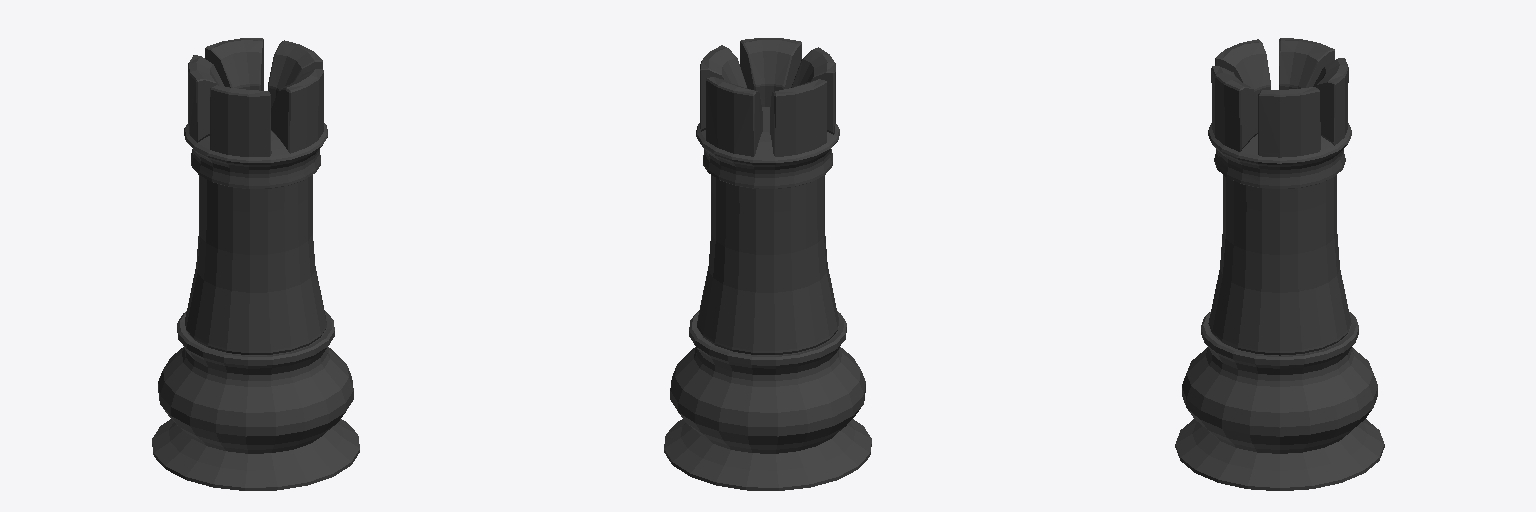
3 renders of one model, left to right at view 1: azimuth 30°, elevation 25°; view 2: azimuth 150°, elevation 25°; view 3: azimuth 270°, elevation 25°, orthographic.
Parts seen in each view (by area): view 1: Rook2_Rook2Shape; view 2: Rook2_Rook2Shape; view 3: Rook2_Rook2Shape.
Part boxes in pixels (left/top/right/bottom): Rook2_Rook2Shape: left=152, top=38, right=359, bottom=490; Rook2_Rook2Shape: left=664, top=38, right=871, bottom=490; Rook2_Rook2Shape: left=1175, top=38, right=1384, bottom=490.
Size of the model in its own units: 0.9955 by 2.01 by 0.9955.
1 materials, 1 textured.